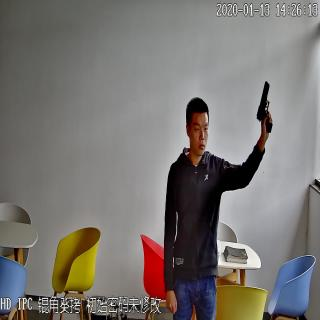gun: (252, 78, 276, 143)
